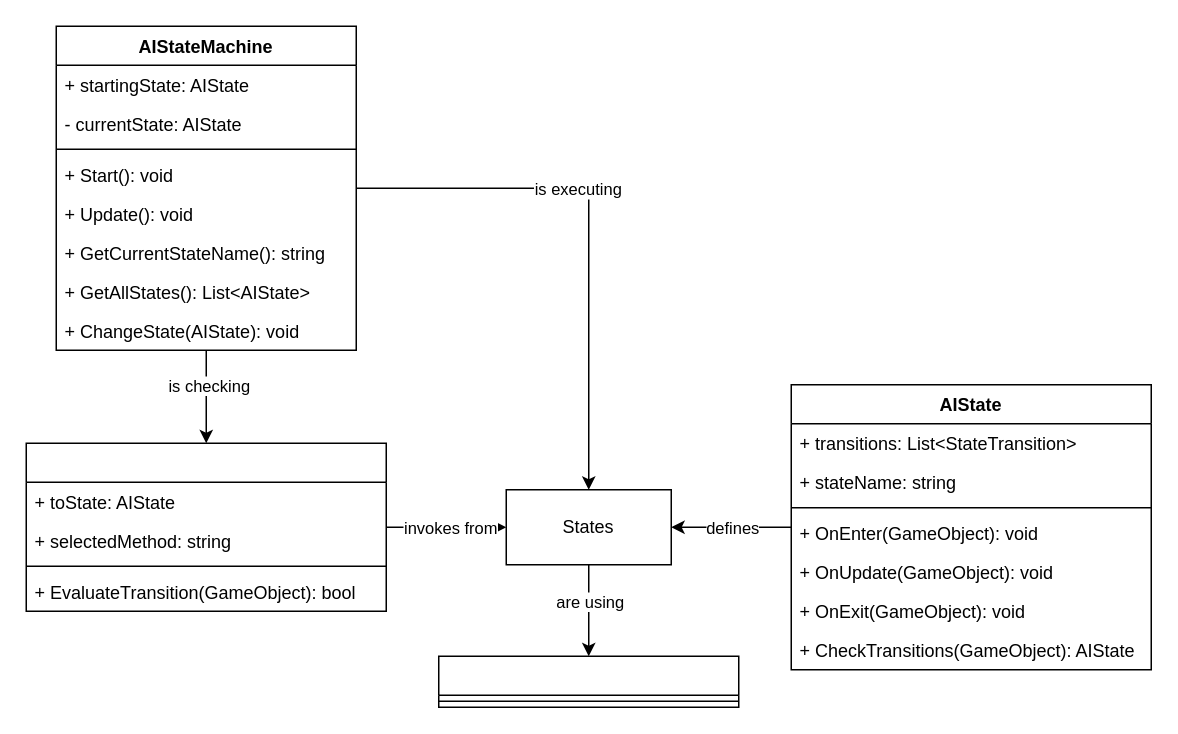
This 1178x734 diagram has some shape labels left out. The box of each missing label's shape, as (x1, y1, x2, y2) in pixels:
StateTransition: (25, 442, 386, 611)
TransitionFunctionAttribute: (437, 655, 739, 707)
